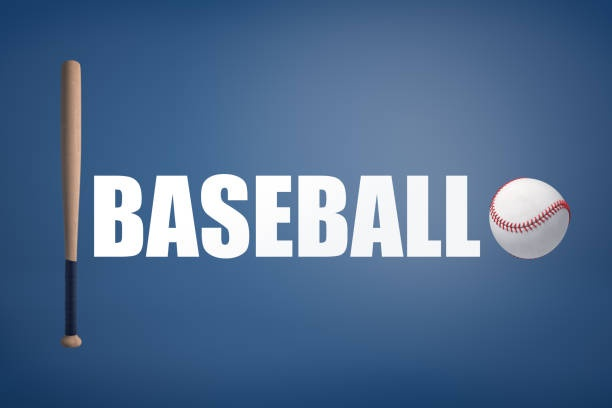bita: (58, 51, 89, 351)
